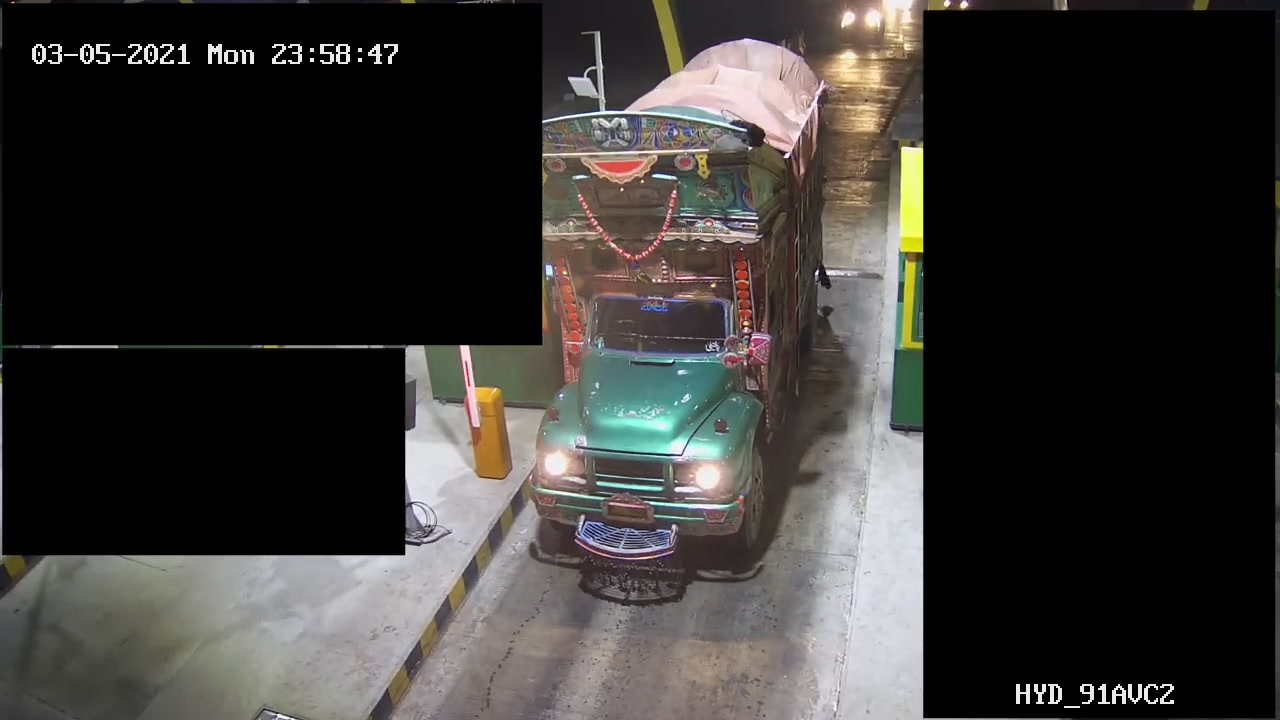F5: (514, 34, 837, 594)
